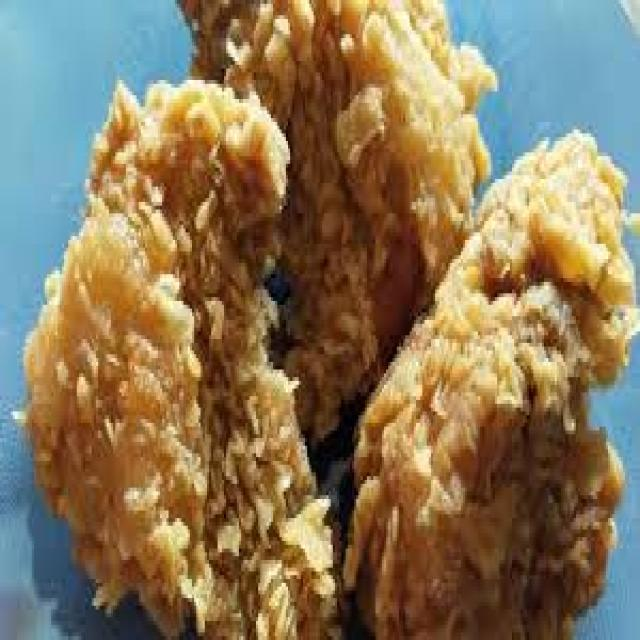Frango: (30, 76, 341, 640), (343, 133, 638, 640), (179, 0, 491, 438)
